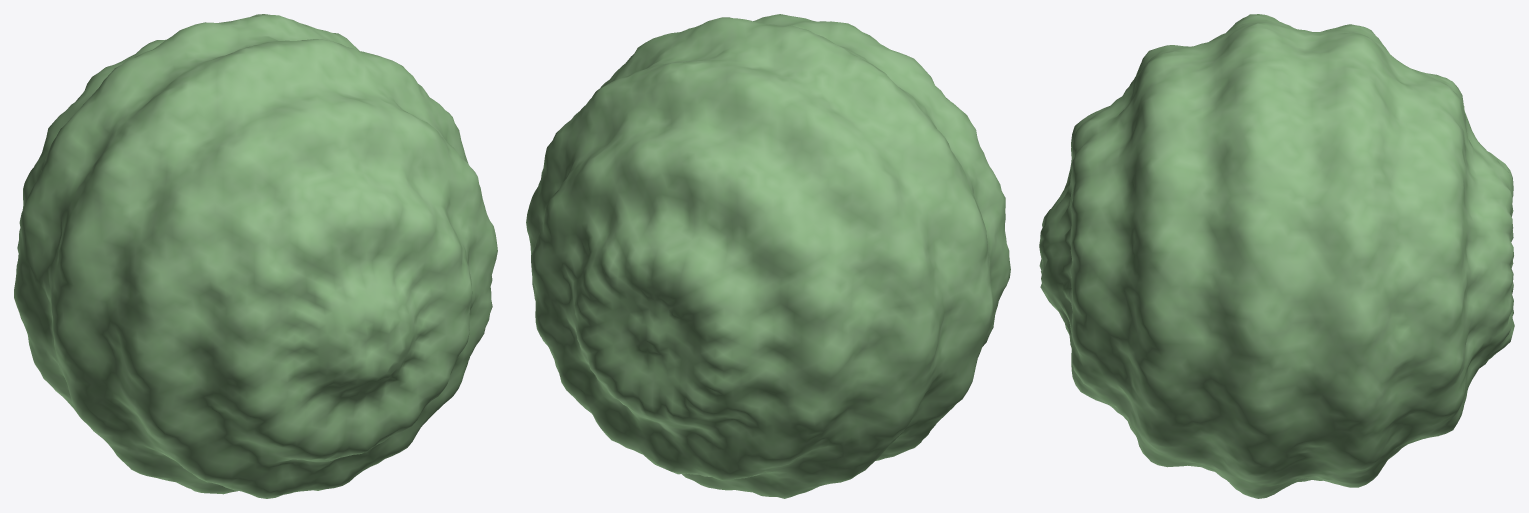
Rendered from planet_1.glb.
3 views of the same model, side by side, from view 1: azimuth 30°, elevation 25°; view 2: azimuth 150°, elevation 25°; view 3: azimuth 270°, elevation 25° (orthographic).
Visible parts, largest first — view 1: world; view 2: world; view 3: world.
Boxes of the visible parts, x1,y1,x2,y2 form: world: [14, 14, 497, 498]; world: [526, 14, 1010, 498]; world: [1039, 14, 1514, 498].
Bounding box in the file's own units: 2.08 × 2.08 × 2.04.
